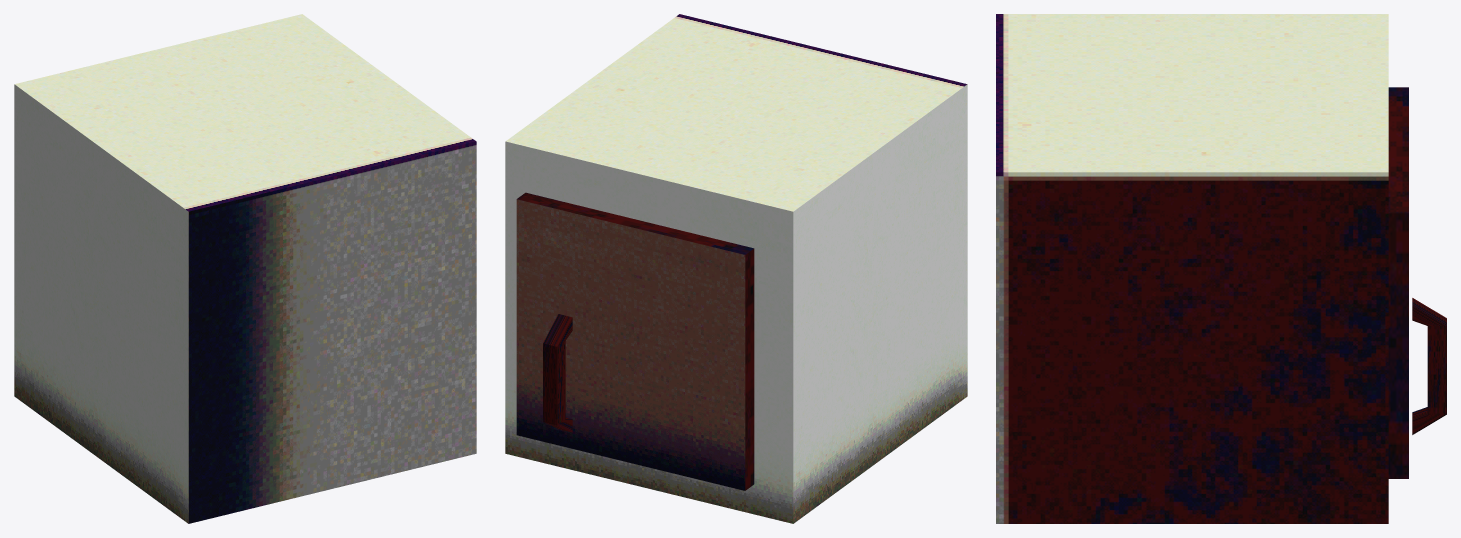
File: MiniUpperCabinet.obj
The picture shows the model from 3 angles, left to right: view 1: azimuth 30°, elevation 25°; view 2: azimuth 150°, elevation 25°; view 3: azimuth 270°, elevation 25°; orthographic projection. The views are drawn at different scales.
Visible parts, largest first — view 1: Cube.043; view 2: Cube.043; view 3: Cube.043.
Part boxes in pixels (left/top/right/bottom): Cube.043: left=14, top=14, right=476, bottom=523; Cube.043: left=505, top=14, right=967, bottom=523; Cube.043: left=996, top=14, right=1446, bottom=523.
Size of the model in its own units: 1.04 by 1.08 by 1.26.
